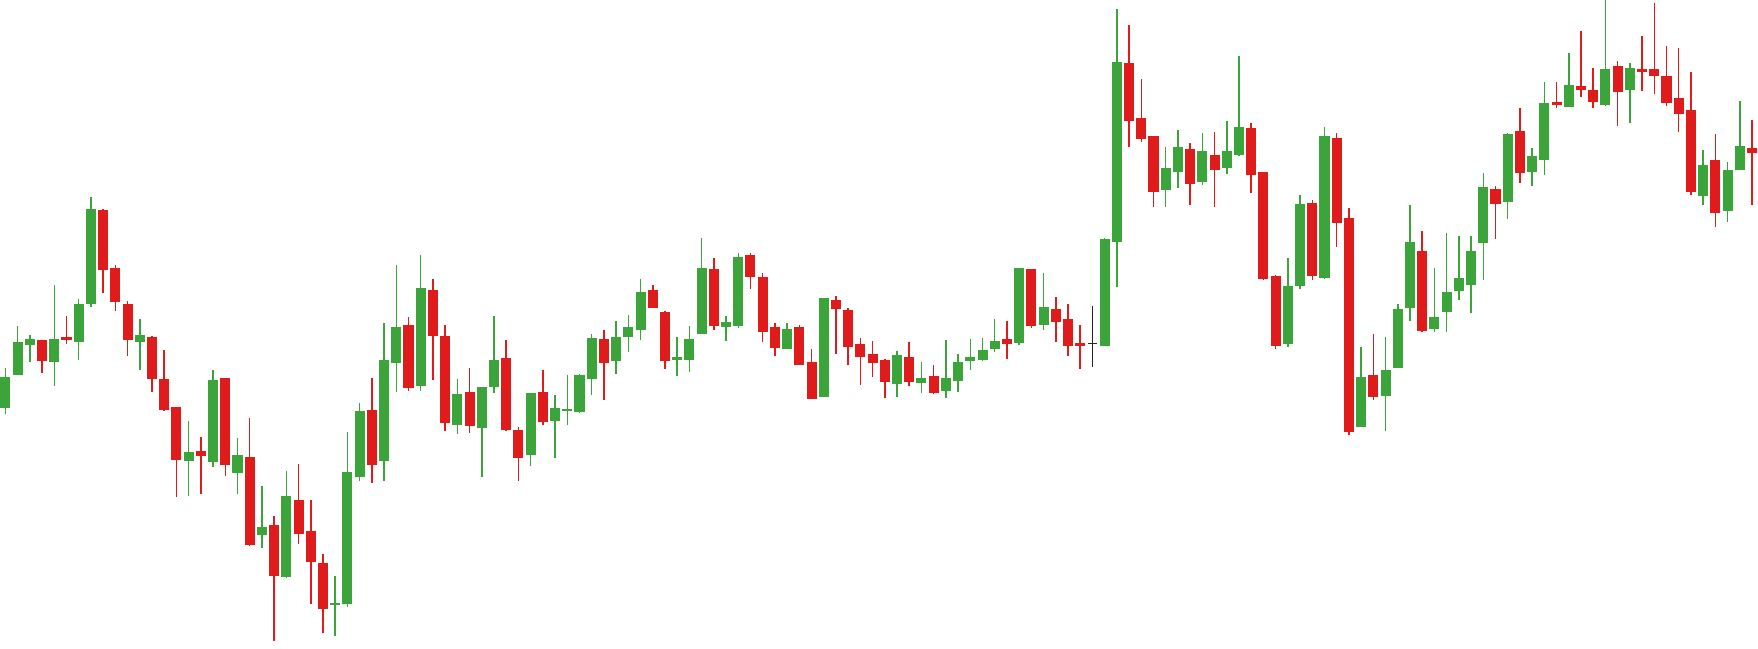buy: (1268, 217, 1405, 442), (1001, 296, 1114, 374)
sell: (631, 232, 724, 350)
